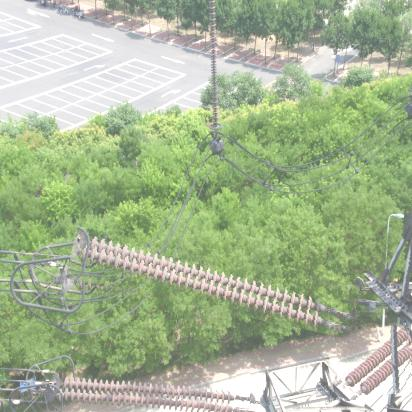insulator: (68, 243, 360, 326), (50, 374, 251, 412), (337, 326, 412, 399)
